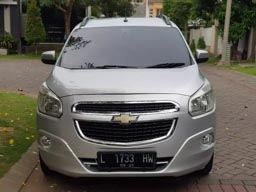plat: (95, 152, 155, 166)
